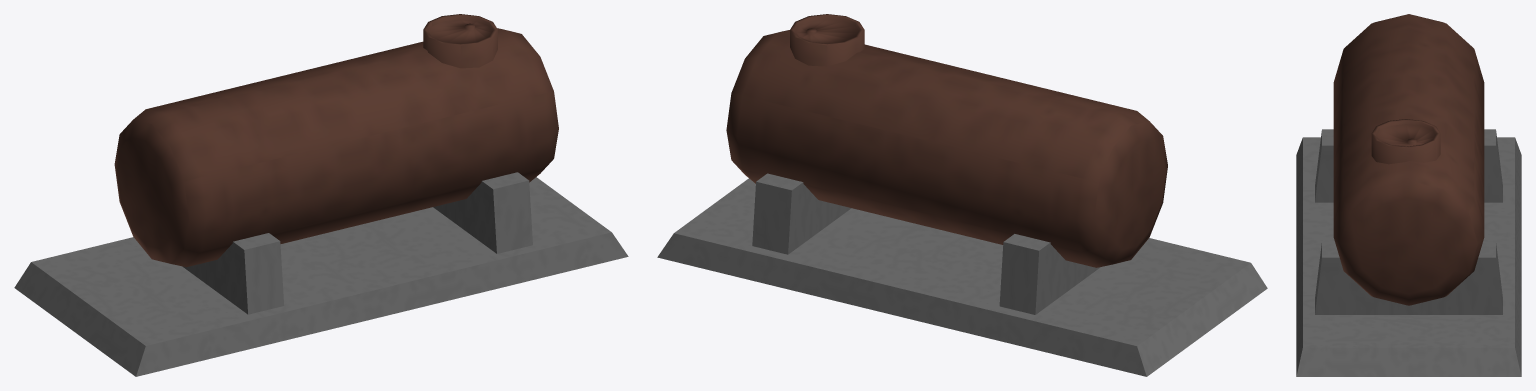
File: VeryBigBochka.fbx
The picture shows the model from 3 angles, left to right: view 1: azimuth 30°, elevation 25°; view 2: azimuth 150°, elevation 25°; view 3: azimuth 270°, elevation 25°; orthographic projection. The views are drawn at different scales.
Parts seen in each view (by area): view 1: Cylinder.007; view 2: Cylinder.007; view 3: Cylinder.007.
Part boxes in pixels (box(x1,y1,x2,y2)): Cylinder.007: box(14, 14, 628, 376); Cylinder.007: box(657, 14, 1267, 376); Cylinder.007: box(1296, 14, 1521, 376).
Size of the model in its own units: 1161 by 473 by 496.
